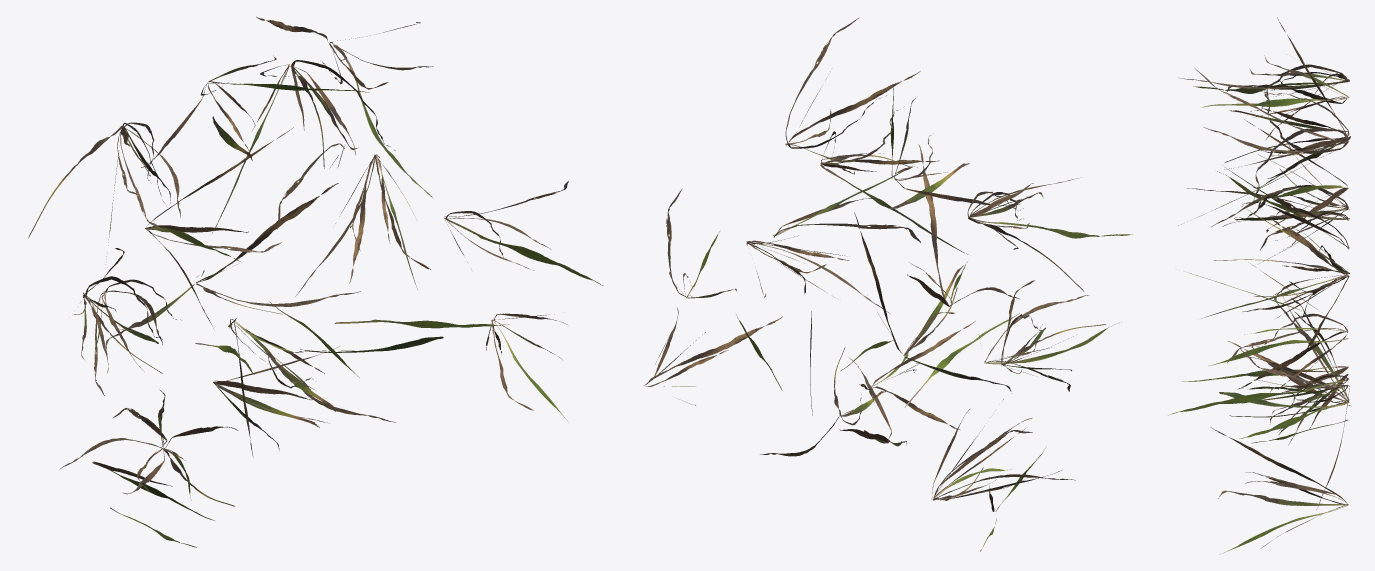
File: Grass_03_Var2_LOD2.fbx
3 views of the same model, side by side, from view 1: azimuth 30°, elevation 25°; view 2: azimuth 150°, elevation 25°; view 3: azimuth 270°, elevation 25° (orthographic). The views are drawn at different scales.
Parts seen in each view (by area): view 1: Var2_LOD2; view 2: Var2_LOD2; view 3: Var2_LOD2.
Part boxes in pixels (left/top/right/bottom): Var2_LOD2: left=28, top=16, right=603, bottom=547; Var2_LOD2: left=643, top=17, right=1132, bottom=551; Var2_LOD2: left=1168, top=17, right=1351, bottom=554.
Size of the model in its own units: 63.08 by 58.05 by 22.08.
